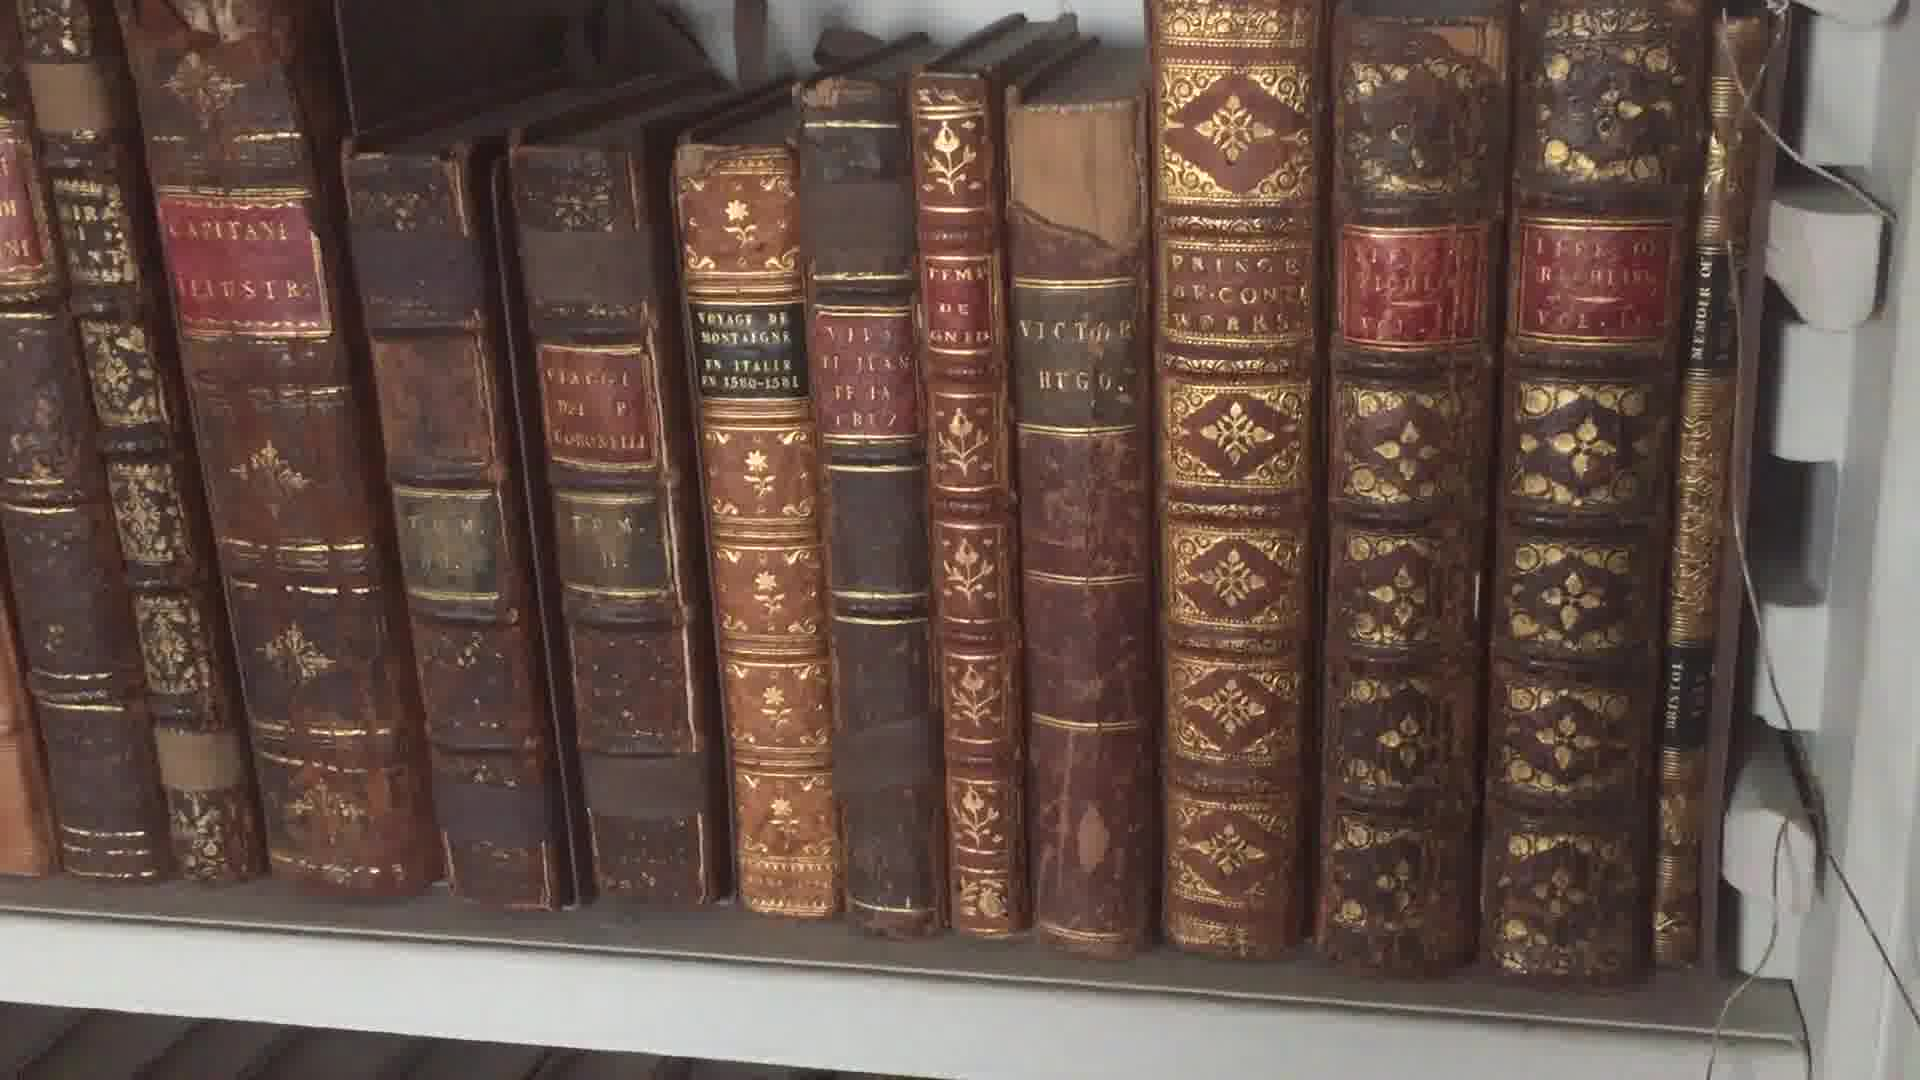Aa6-39_40: (320, 135, 721, 927)
Aa6-41: (647, 92, 847, 924)
Aa6-42: (782, 87, 936, 931)
Aa6-43: (885, 53, 1026, 939)
Aa6-44: (992, 58, 1160, 963)
Aa6-45: (1138, 1, 1324, 957)
Aa6-46-47: (1321, 12, 1660, 985)
Aa6-48: (1660, 7, 1775, 997)
